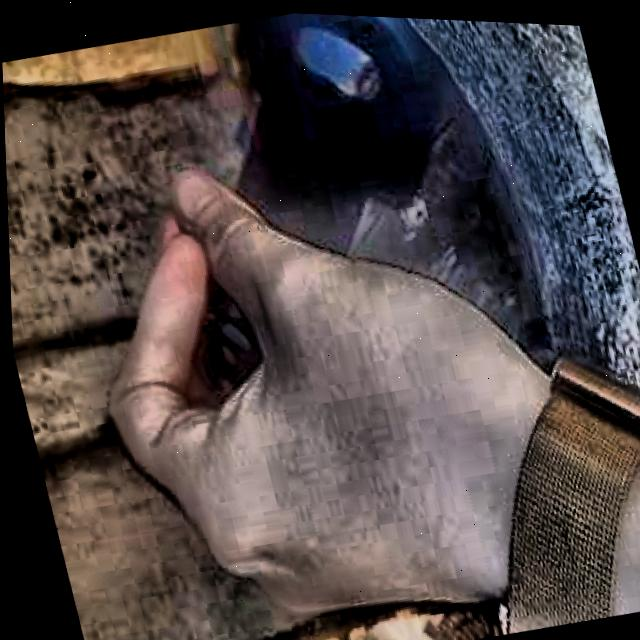glass: (236, 10, 430, 249), (191, 276, 256, 401)
